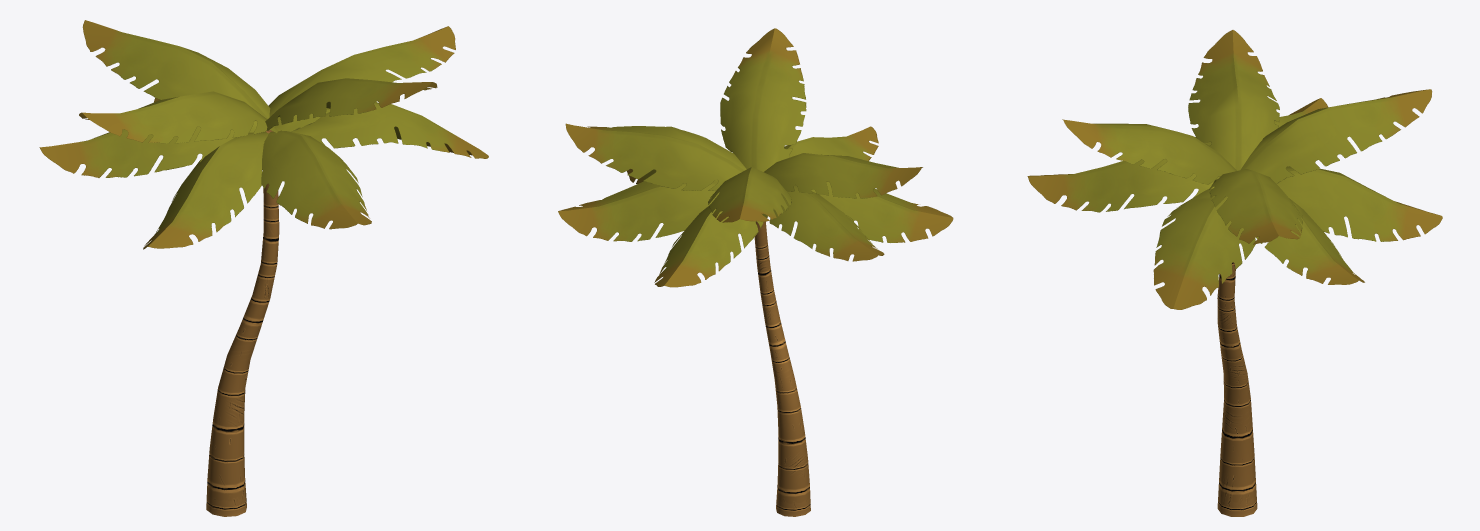
File: PalmTree02.fbx
3 views of the same model, side by side, from view 1: azimuth 30°, elevation 25°; view 2: azimuth 150°, elevation 25°; view 3: azimuth 270°, elevation 25° (orthographic). The views are drawn at different scales.
Parts seen in each view (by area): view 1: PalmTree02_LOD0; view 2: PalmTree02_LOD0; view 3: PalmTree02_LOD0.
Boxes of the visible parts, left/top/right/bottom form: PalmTree02_LOD0: left=39, top=20, right=488, bottom=516; PalmTree02_LOD0: left=558, top=28, right=953, bottom=516; PalmTree02_LOD0: left=1027, top=30, right=1442, bottom=516.
Size of what is drawn, in the model's own units: 603 by 616 by 576.
1 material, 1 textured.
